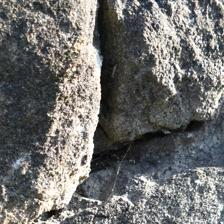Crack: (12, 66, 103, 148), (0, 90, 117, 150)
